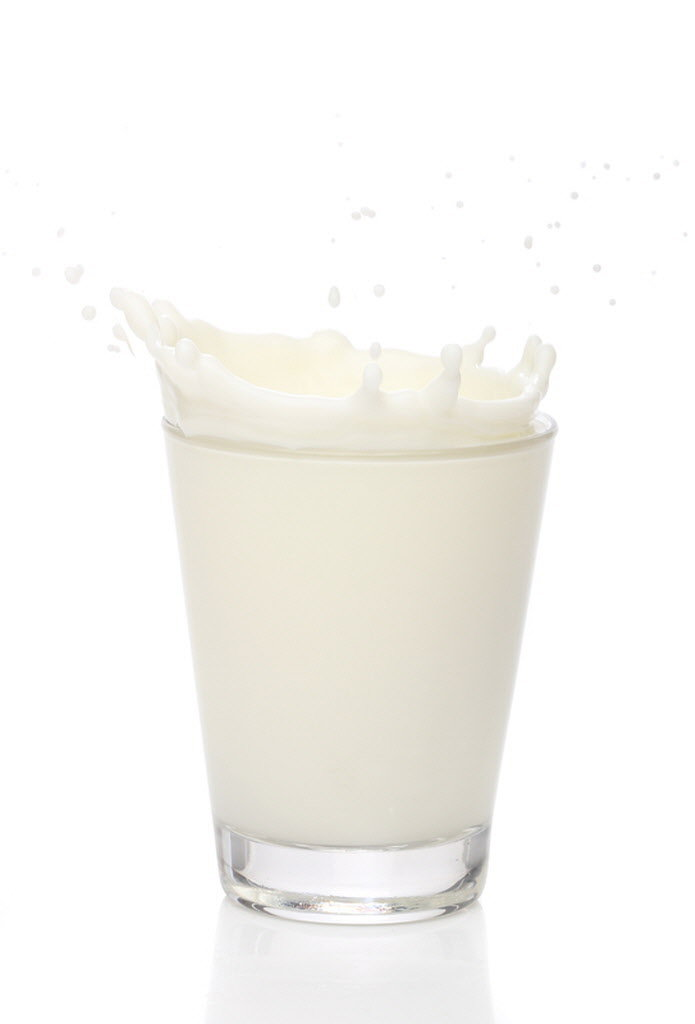glass of milk: (185, 355, 520, 878)
